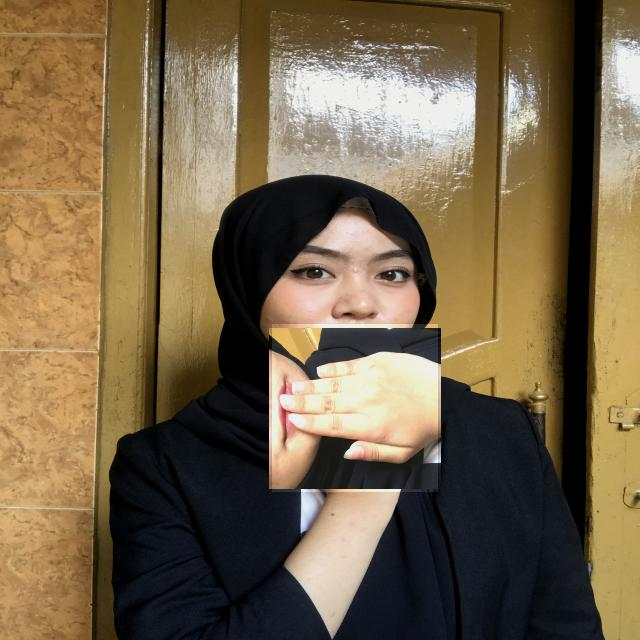ganteng: (272, 324, 438, 492)
